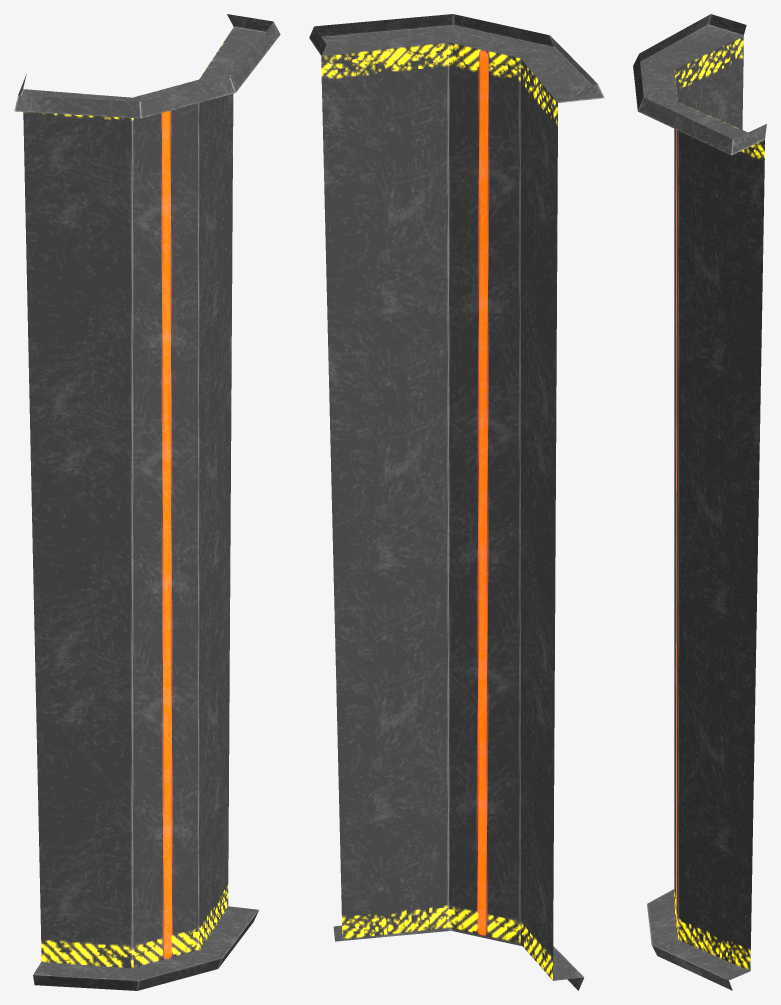
File: pilar v2.fbx
The picture shows the model from 3 angles, left to right: view 1: azimuth 30°, elevation 25°; view 2: azimuth 150°, elevation 25°; view 3: azimuth 270°, elevation 25°; orthographic projection. The views are drawn at different scales.
Visible parts, largest first — view 1: pCube4; view 2: pCube4; view 3: pCube4.
Boxes of the visible parts, x1,y1,x2,y2 form: pCube4: (14, 14, 280, 990); pCube4: (309, 14, 604, 990); pCube4: (633, 14, 766, 990).
Bounding box in the file's own units: 0.8595 × 2.64 × 0.3718.
1 material, 1 textured.
